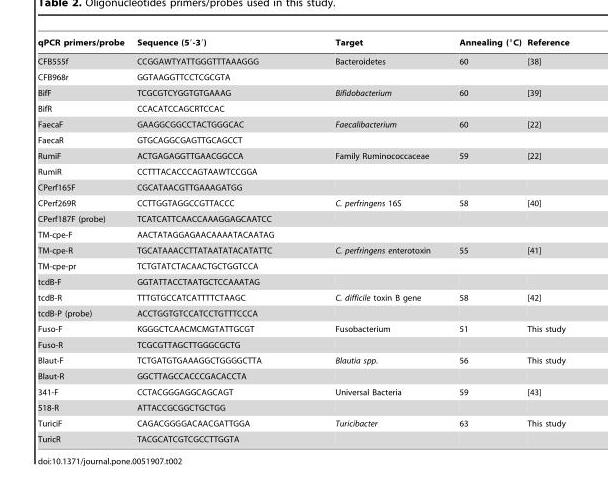table: (37, 36, 568, 443)
table column: (129, 36, 303, 443), (303, 36, 444, 443), (37, 36, 129, 443), (444, 36, 523, 443), (523, 36, 568, 443)
table column header: (37, 36, 568, 52)
table row: (37, 52, 568, 69), (37, 36, 568, 52), (37, 84, 568, 100), (37, 100, 568, 116), (37, 116, 568, 132), (37, 147, 568, 163), (37, 163, 568, 179), (37, 179, 568, 195), (37, 210, 568, 226), (37, 226, 568, 242), (37, 242, 568, 258), (37, 273, 568, 289), (37, 289, 568, 305), (37, 305, 568, 321), (37, 336, 568, 352), (37, 352, 568, 368), (37, 383, 568, 399), (37, 399, 568, 415), (37, 415, 568, 431), (37, 69, 568, 84), (37, 132, 568, 147), (37, 195, 568, 210), (37, 258, 568, 273), (37, 321, 568, 336), (37, 368, 568, 383), (37, 431, 568, 443)
